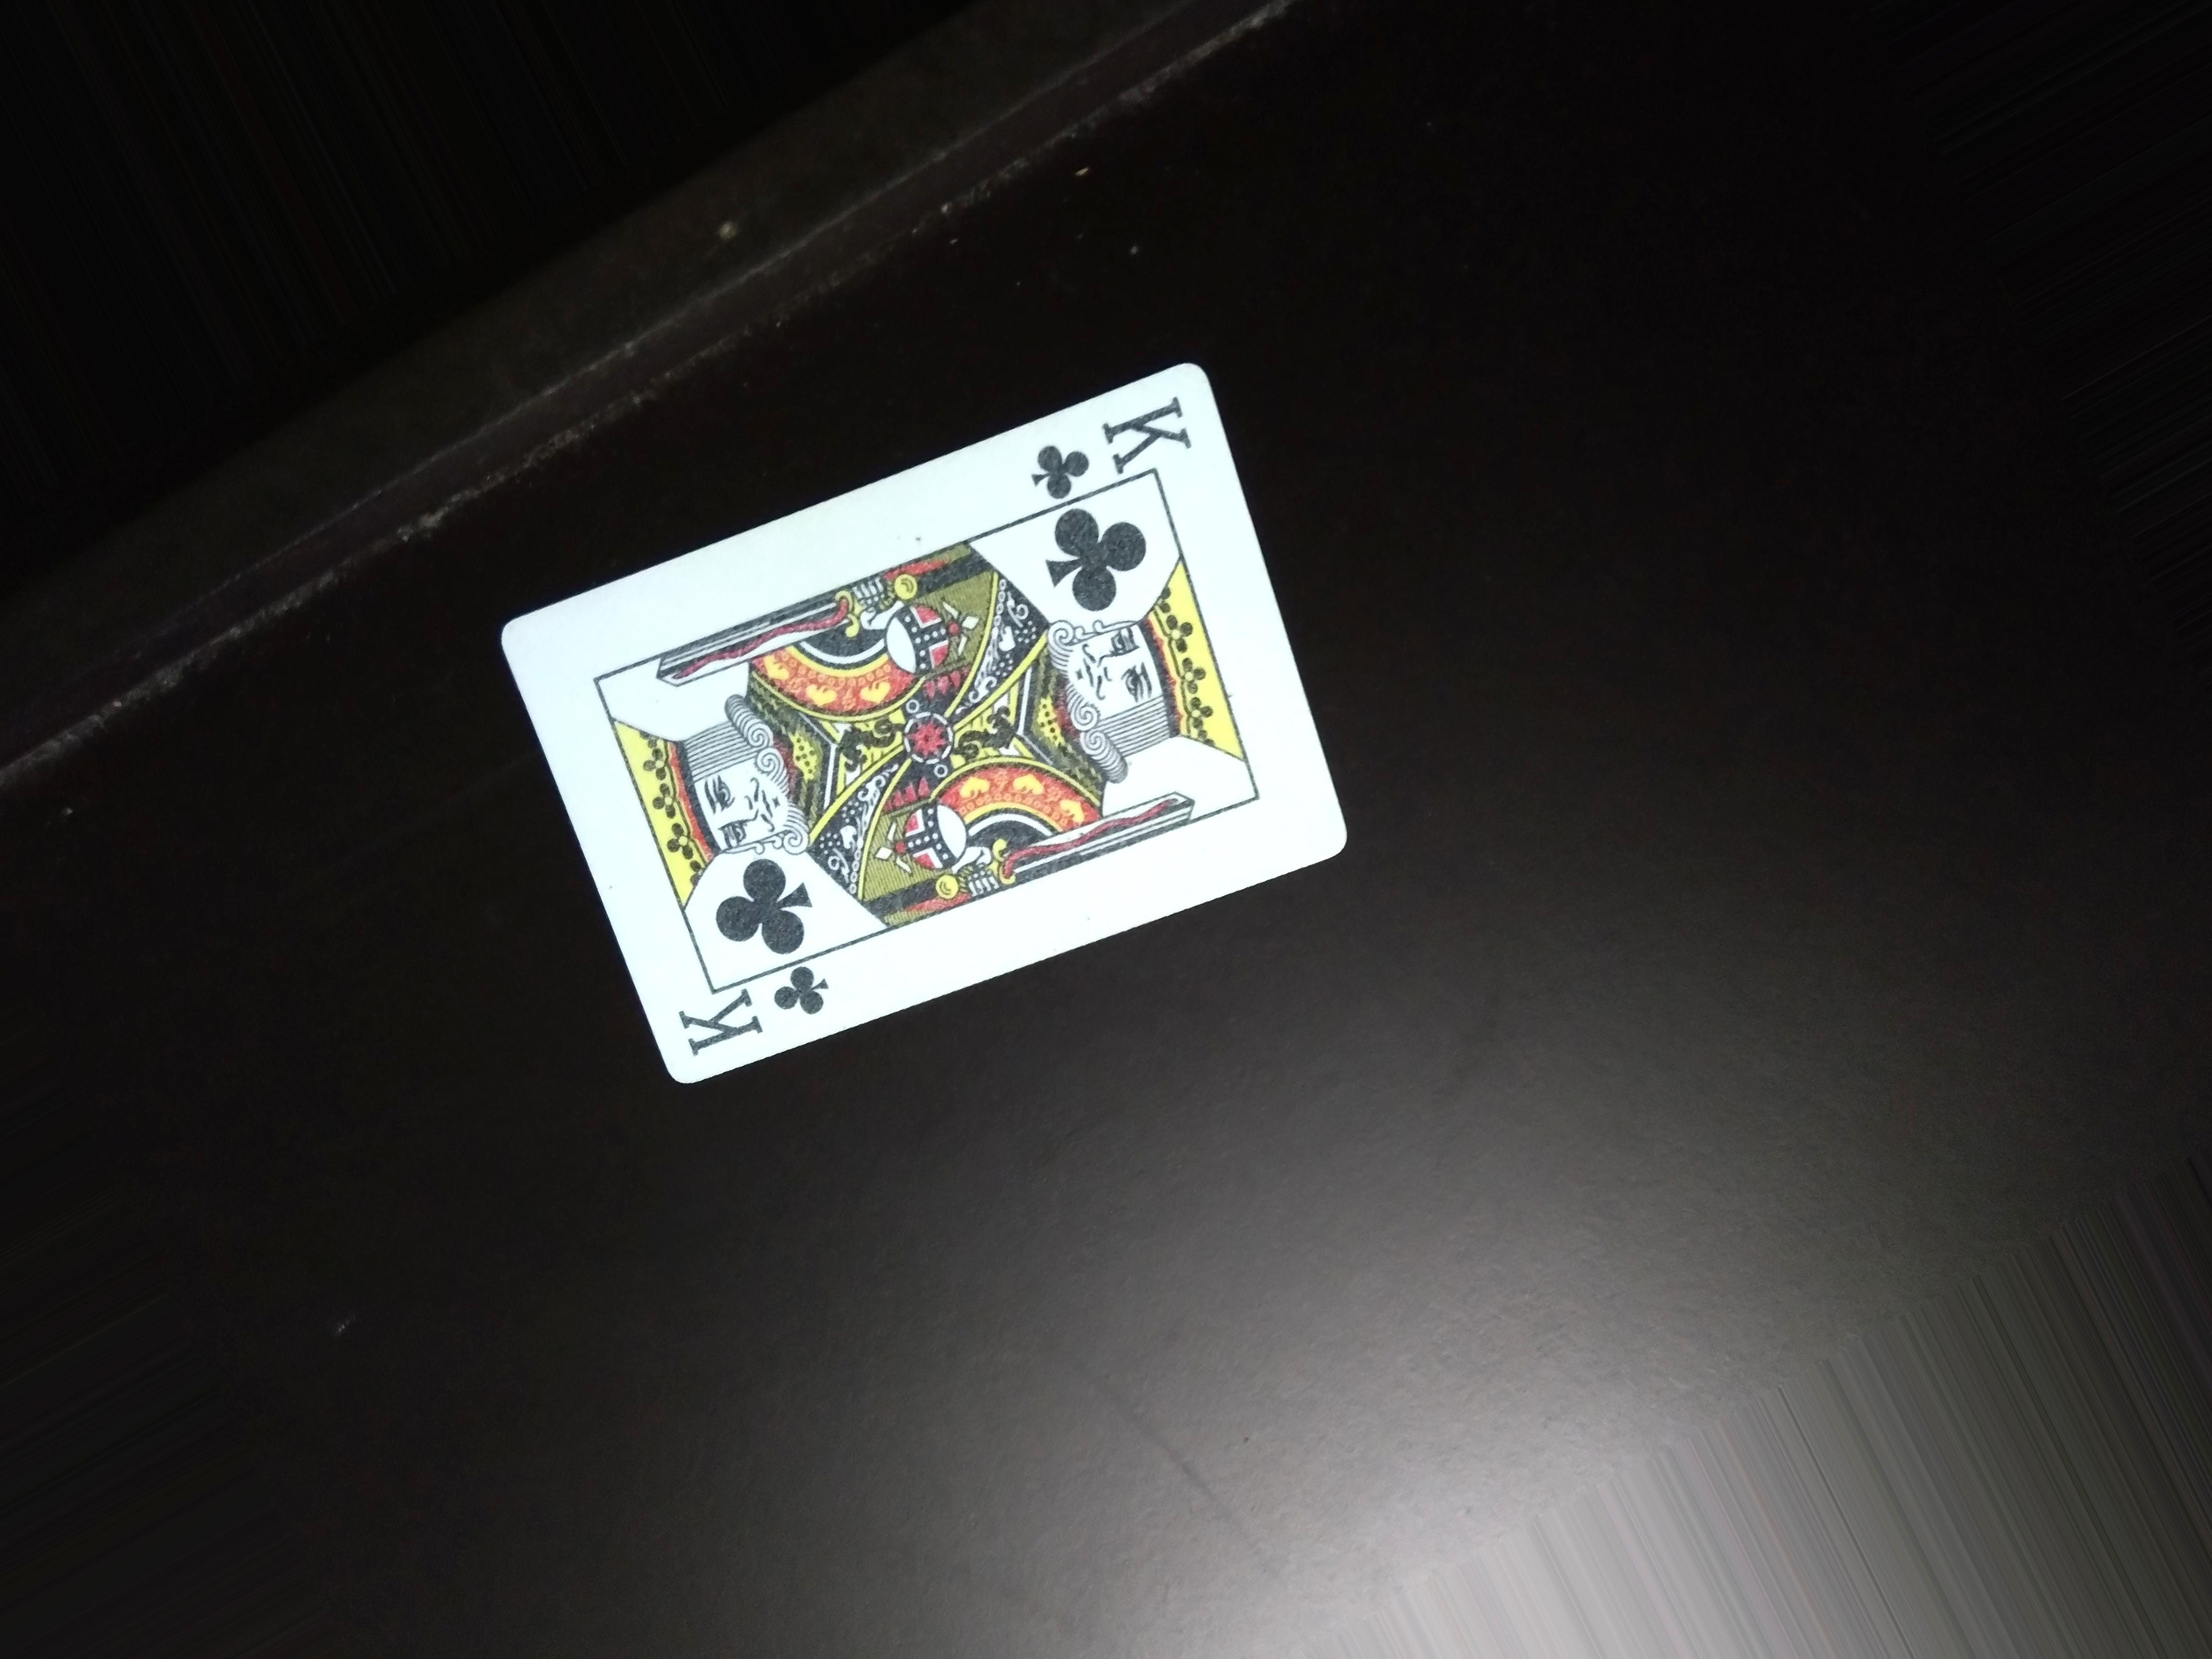KC: (1019, 392, 1191, 502)
